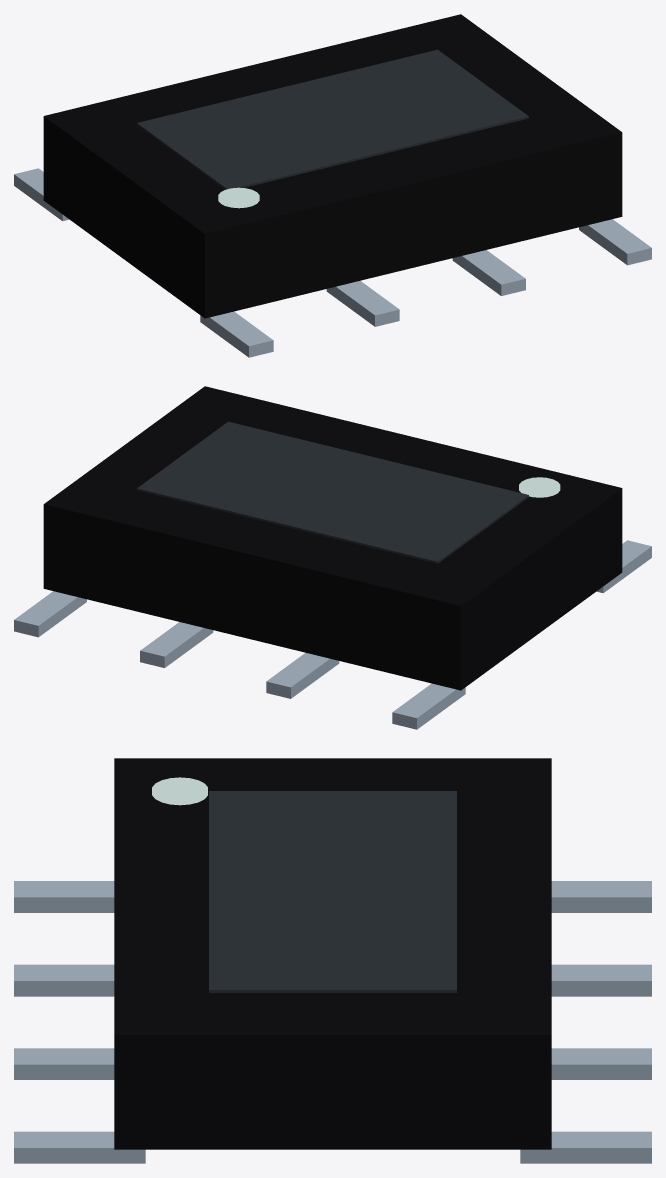
The picture shows the model from 3 angles, top to bottom: view 1: azimuth 30°, elevation 25°; view 2: azimuth 150°, elevation 25°; view 3: azimuth 270°, elevation 25°; orthographic projection. The views are drawn at different scales.
Visible parts, largest first — view 1: U5_000_Molded_Encapsulation, U5_001_LaserMark_Panel, U5_006_Stamped_Gullwing_Lead, U5_007_Stamped_Gullwing_Lead, U5_008_Stamped_Gullwing_Lead, U5_009_Stamped_Gullwing_Lead, U5_002_Stamped_Gullwing_Lead, U5_010_Pin1_Dimple; view 2: U5_000_Molded_Encapsulation, U5_001_LaserMark_Panel, U5_002_Stamped_Gullwing_Lead, U5_003_Stamped_Gullwing_Lead, U5_004_Stamped_Gullwing_Lead, U5_005_Stamped_Gullwing_Lead, U5_006_Stamped_Gullwing_Lead, U5_010_Pin1_Dimple; view 3: U5_000_Molded_Encapsulation, U5_001_LaserMark_Panel, U5_005_Stamped_Gullwing_Lead, U5_009_Stamped_Gullwing_Lead, U5_003_Stamped_Gullwing_Lead, U5_007_Stamped_Gullwing_Lead, U5_002_Stamped_Gullwing_Lead, U5_004_Stamped_Gullwing_Lead, U5_006_Stamped_Gullwing_Lead, U5_008_Stamped_Gullwing_Lead, U5_010_Pin1_Dimple.
Part boxes in pixels (<box>): U5_000_Molded_Encapsulation: <box>43,14,622,318</box>; U5_001_LaserMark_Panel: <box>137,49,528,189</box>; U5_006_Stamped_Gullwing_Lead: <box>200,311,273,357</box>; U5_007_Stamped_Gullwing_Lead: <box>326,280,399,326</box>; U5_008_Stamped_Gullwing_Lead: <box>452,250,525,295</box>; U5_009_Stamped_Gullwing_Lead: <box>579,219,651,265</box>; U5_002_Stamped_Gullwing_Lead: <box>14,168,69,221</box>; U5_010_Pin1_Dimple: <box>218,187,259,208</box>; U5_000_Molded_Encapsulation: <box>43,386,622,690</box>; U5_001_LaserMark_Panel: <box>137,421,528,563</box>; U5_002_Stamped_Gullwing_Lead: <box>392,683,465,729</box>; U5_003_Stamped_Gullwing_Lead: <box>266,652,339,698</box>; U5_004_Stamped_Gullwing_Lead: <box>140,622,213,667</box>; U5_005_Stamped_Gullwing_Lead: <box>14,591,86,637</box>; U5_006_Stamped_Gullwing_Lead: <box>596,540,651,593</box>; U5_010_Pin1_Dimple: <box>519,477,560,497</box>; U5_000_Molded_Encapsulation: <box>114,758,551,1149</box>; U5_001_LaserMark_Panel: <box>209,791,456,992</box>; U5_005_Stamped_Gullwing_Lead: <box>520,1131,651,1163</box>; U5_009_Stamped_Gullwing_Lead: <box>14,1131,145,1163</box>; U5_003_Stamped_Gullwing_Lead: <box>551,964,651,996</box>; U5_007_Stamped_Gullwing_Lead: <box>14,964,114,996</box>; U5_002_Stamped_Gullwing_Lead: <box>551,881,651,912</box>; U5_004_Stamped_Gullwing_Lead: <box>551,1048,651,1079</box>; U5_006_Stamped_Gullwing_Lead: <box>14,881,114,912</box>; U5_008_Stamped_Gullwing_Lead: <box>14,1048,114,1079</box>; U5_010_Pin1_Dimple: <box>152,777,207,805</box>.
Bounding box in the file's own units: 0.00645 × 0.00154 × 0.00629.
